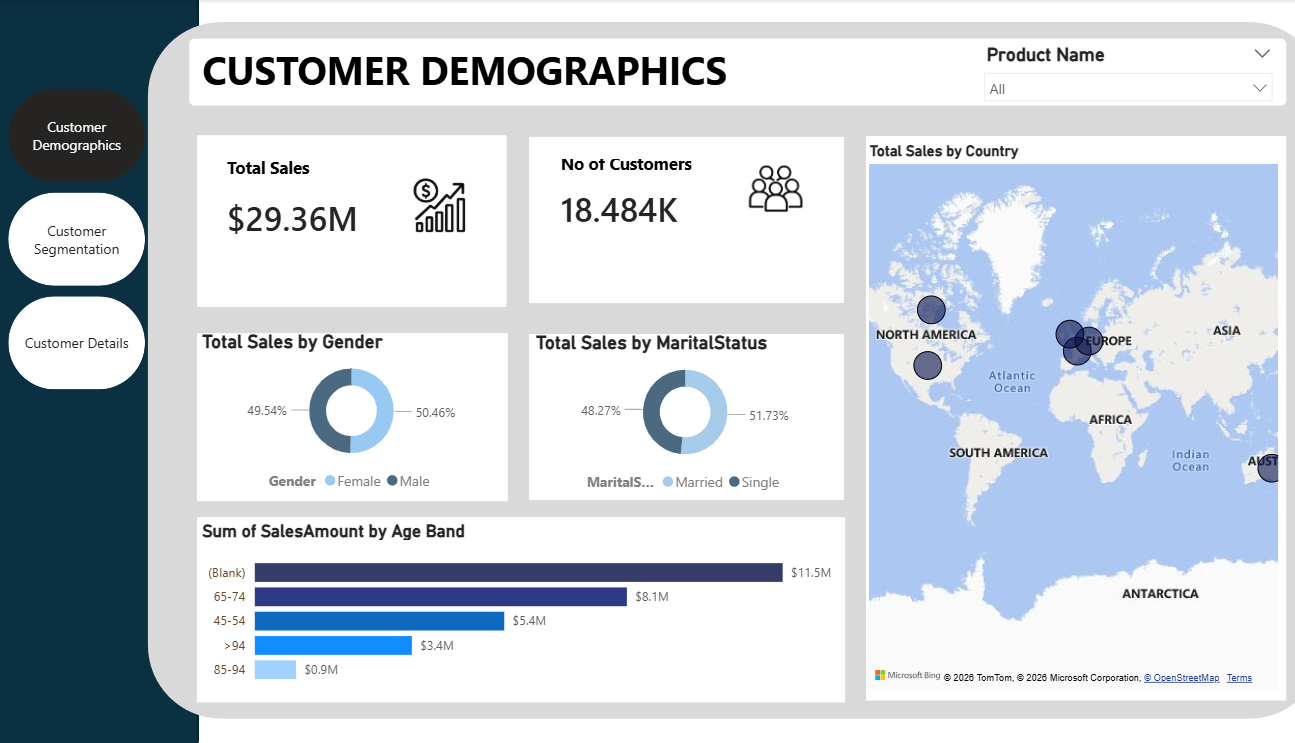

What the dashboard file says about the page in this screenshot:
{"tool":"powerbi","page":{"name":"Customer Demographics","canvas":[1280,720],"ordinal":0},"visuals":[{"type":"cardVisual","fields":{"Data":["Sum(FactInternetSales.SalesAmount)"]},"box":[192.9,131.4,298.6,165.7],"z":0},{"type":"cardVisual","fields":{"Data":["Count(FactInternetSales.CustomerKey)"]},"box":[515.7,137.1,298.6,155.7],"z":1000},{"type":"donutChart","fields":{"Y":["Sum(FactInternetSales.SalesAmount)"],"Category":["DimCustomer.Gender"]},"box":[192.9,320,298.6,164.3],"z":2000},{"type":"donutChart","fields":{"Y":["Sum(FactInternetSales.SalesAmount)"],"Category":["DimCustomer.MaritalStatus"]},"box":[515.7,321.4,298.6,164.3],"z":3000},{"type":"clusteredBarChart","fields":{"Category":["Age Sort.Age Band"],"Y":["Sum(FactInternetSales.SalesAmount)"]},"box":[192.9,502.9,621.4,168.6],"z":4000},{"type":"map","fields":{"Category":["DimGeography.Country"]},"box":[837.3,137.5,404.2,534.5],"z":5000},{"type":"textbox","box":[193,38.6,576.7,61.5],"z":6000},{"type":"slicer","fields":{"Values":["DimProduct.Product Name"]},"box":[942.2,38.6,299.2,61.5],"z":7000},{"type":"pageNavigator","box":[10.9,86.9,132.7,290.8],"z":8000}]}

Visuals, with their boxes on the page's 1280x720 design canvas (x1, y1, x2, y2). These are canvas units, not pixel positions in the 1295x743 screenshot, which may show the page scaled, cropped or inside an application window:
cardVisual - Sum(FactInternetSales.SalesAmount): {"left": 193, "top": 131, "right": 492, "bottom": 297}
cardVisual - Count(FactInternetSales.CustomerKey): {"left": 516, "top": 137, "right": 814, "bottom": 293}
donutChart - Sum(FactInternetSales.SalesAmount) x DimCustomer.Gender: {"left": 193, "top": 320, "right": 492, "bottom": 484}
donutChart - Sum(FactInternetSales.SalesAmount) x DimCustomer.MaritalStatus: {"left": 516, "top": 321, "right": 814, "bottom": 486}
clusteredBarChart - Age Sort.Age Band x Sum(FactInternetSales.SalesAmount): {"left": 193, "top": 503, "right": 814, "bottom": 672}
map - DimGeography.Country: {"left": 837, "top": 138, "right": 1242, "bottom": 672}
textbox: {"left": 193, "top": 39, "right": 770, "bottom": 100}
slicer - DimProduct.Product Name: {"left": 942, "top": 39, "right": 1241, "bottom": 100}
pageNavigator: {"left": 11, "top": 87, "right": 144, "bottom": 378}
